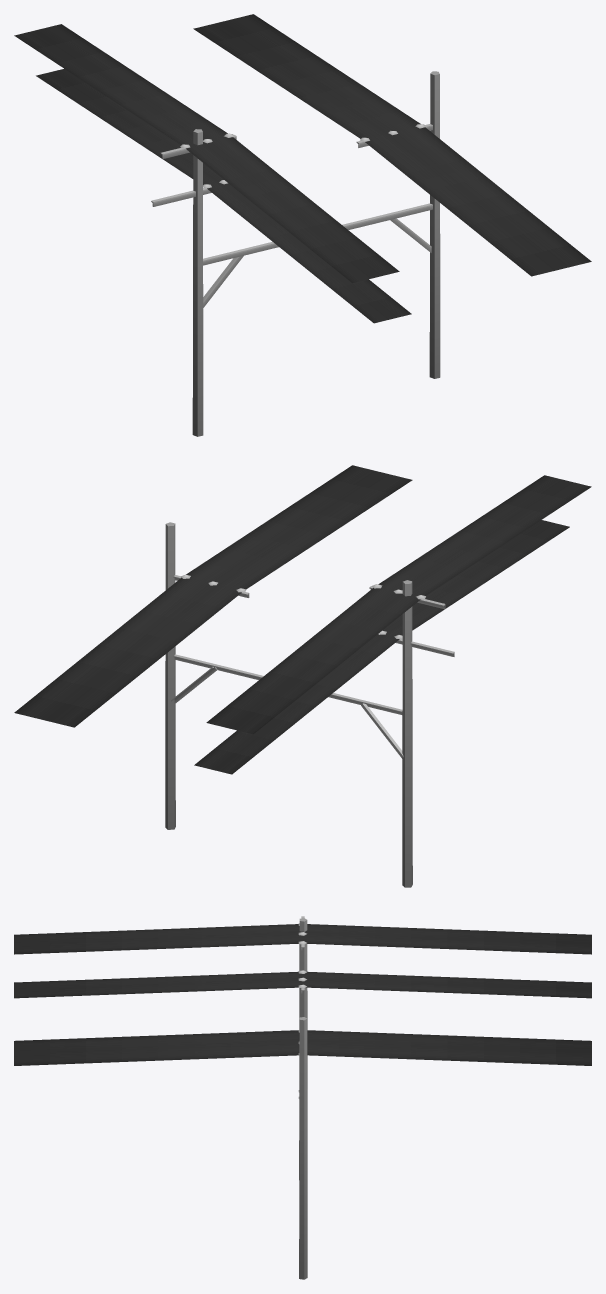
3 renders of one model, top to bottom at view 1: azimuth 30°, elevation 25°; view 2: azimuth 150°, elevation 25°; view 3: azimuth 270°, elevation 25°, orthographic. The views are drawn at different scales.
Parts seen in each view (by area): view 1: Model; view 2: Model; view 3: Model.
Part boxes in pixels (x1,y1,x2,y2): Model: (14, 14, 591, 436); Model: (14, 465, 591, 887); Model: (14, 916, 591, 1279).
Bounding box in the file's own units: 29.44 × 29.69 × 60.
Materials: 2 (1 with a texture image).
